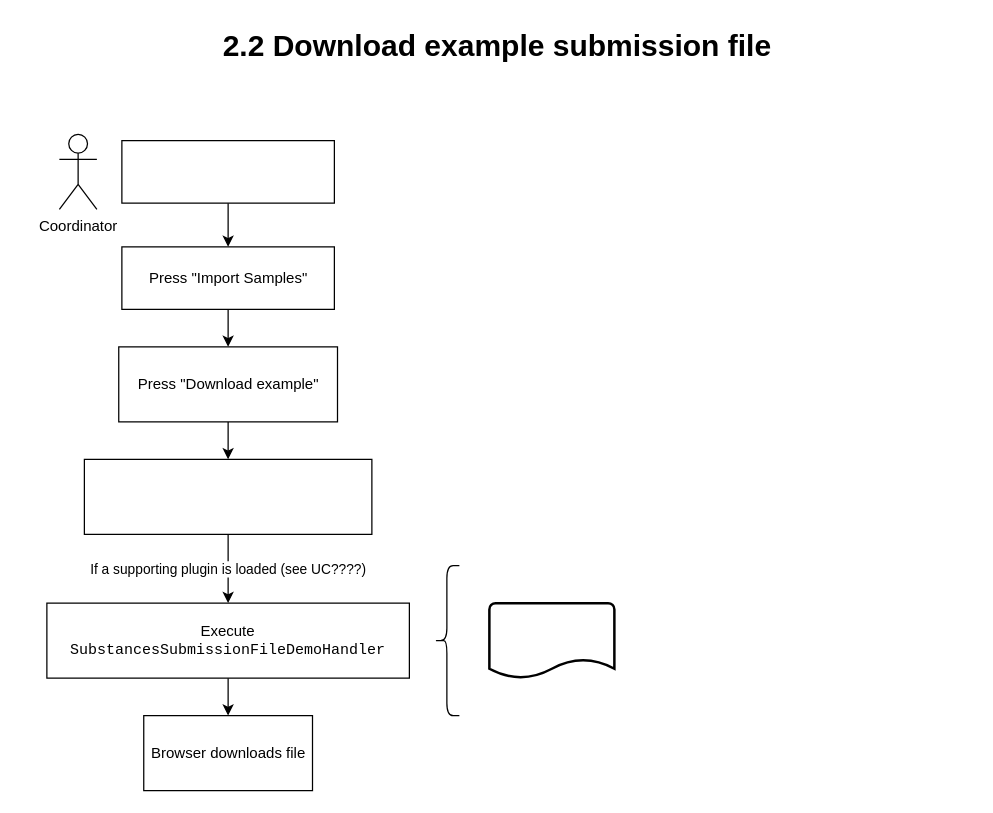
This 993x813 diagram has some shape labels left out. Each missing label, with the box of its shape:
/organizations/lab/substances/files/demo: (83, 458, 372, 534)
Demo file: (488, 601, 615, 679)
Press "Samples": (121, 139, 334, 203)
